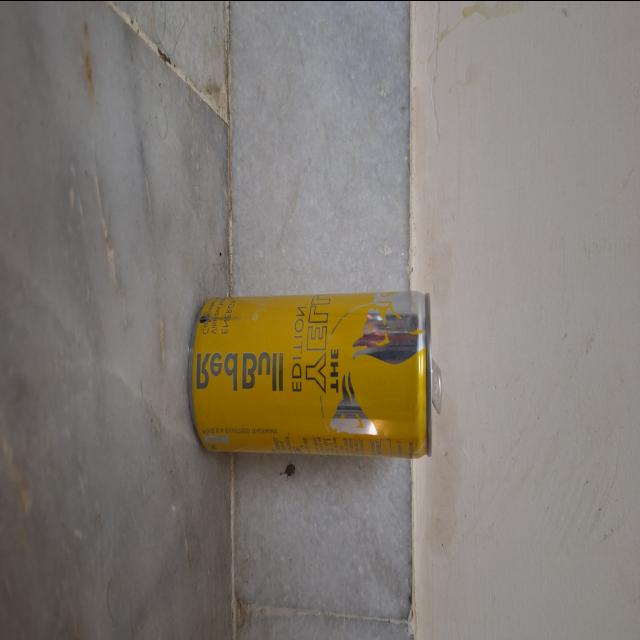Redbull Summer Edition: (180, 276, 460, 476)
